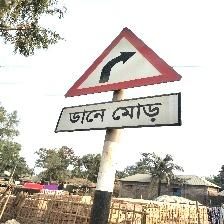Right-turn: (57, 26, 184, 133)
